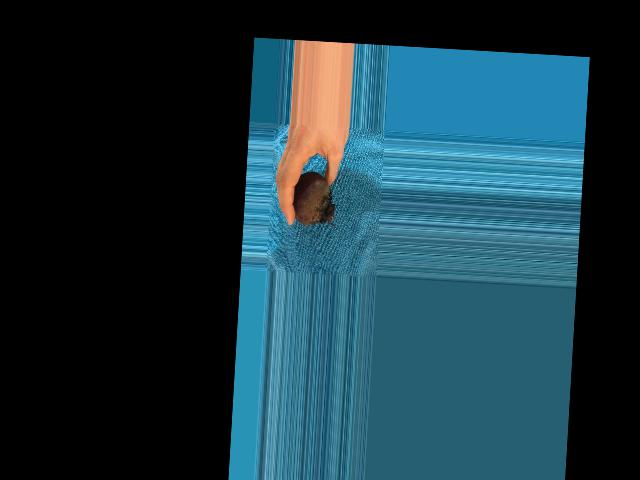beet: (292, 171, 338, 226)
